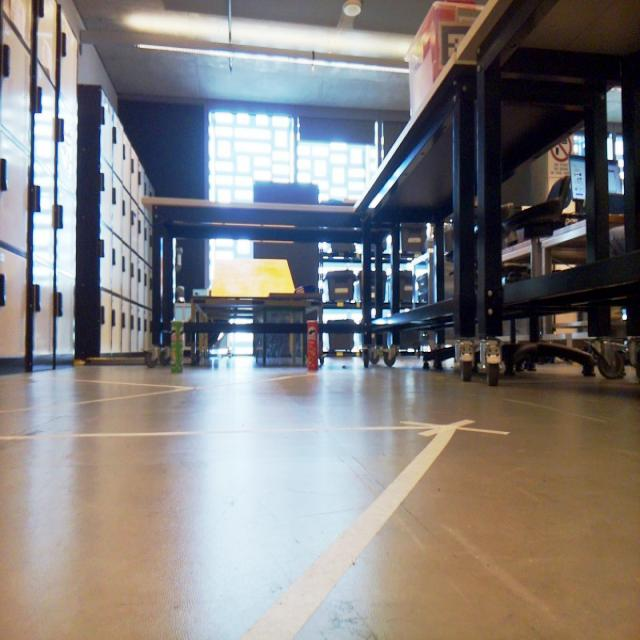greenpringles: (169, 308, 189, 373)
redpringles: (305, 318, 327, 382)
